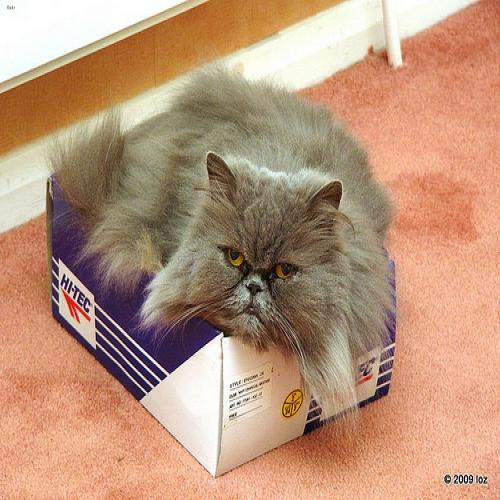persian: (177, 137, 359, 384)
